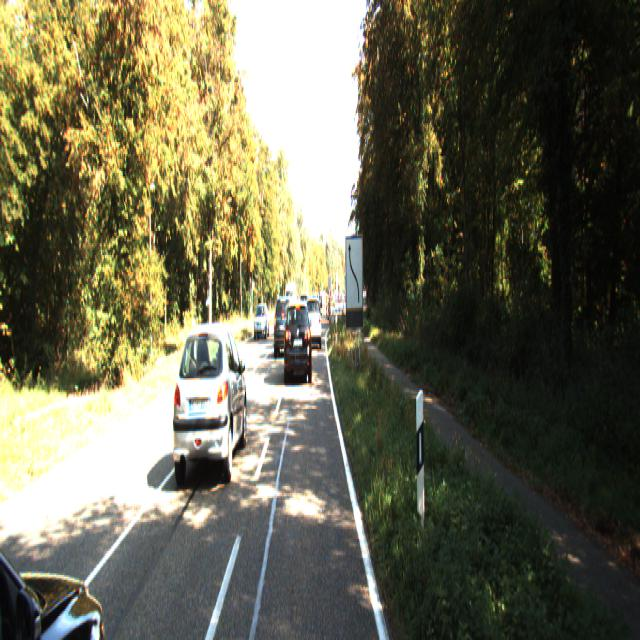Car: (171, 315, 247, 482), (284, 294, 312, 380), (273, 293, 295, 354), (306, 294, 322, 344), (253, 300, 270, 336)
